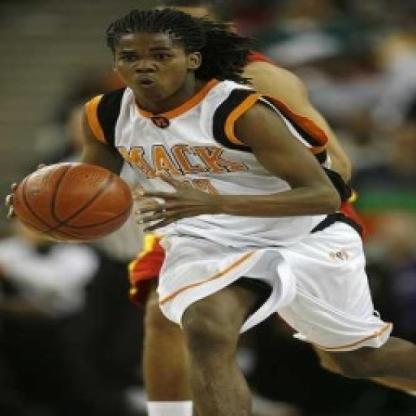basketball: (9, 157, 139, 250)
